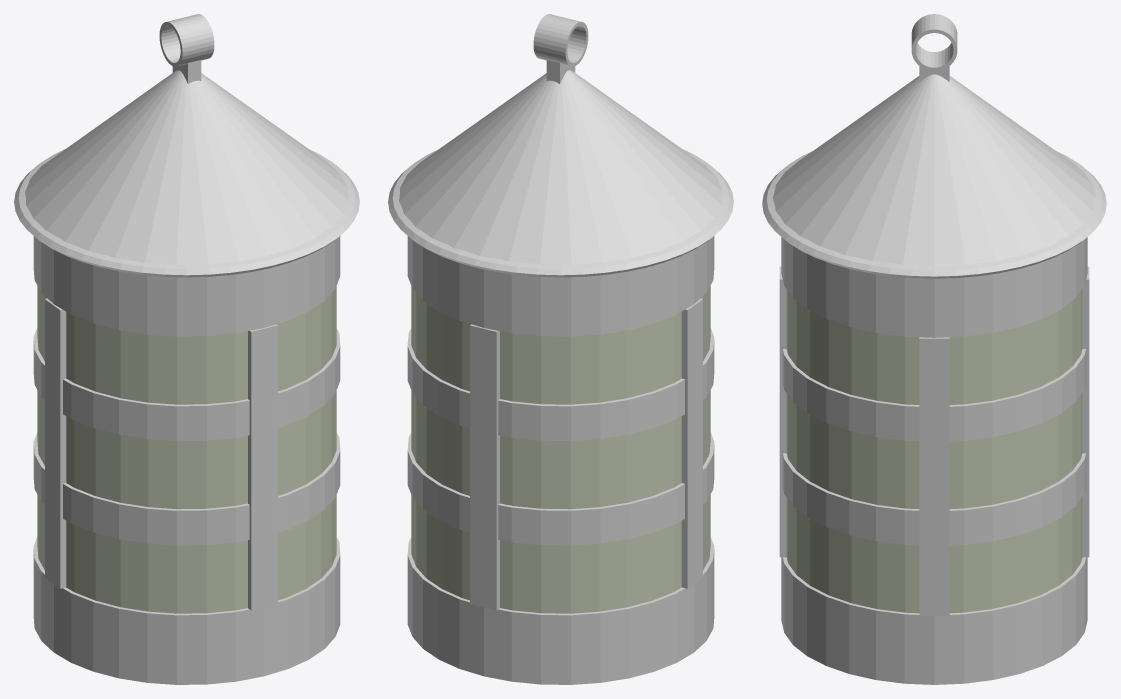
The model's file is lantern.fbx.
The picture shows the model from 3 angles, left to right: view 1: azimuth 30°, elevation 25°; view 2: azimuth 150°, elevation 25°; view 3: azimuth 270°, elevation 25°; orthographic projection.
Visible parts, largest first — view 1: Cylinder, Cylinder.001, Cone, Cube.002, Torus.001, Cube, Cylinder.003; view 2: Cylinder, Cylinder.001, Cone, Cube.003, Torus.001, Cube, Cylinder.003; view 3: Cylinder, Cylinder.001, Cone, Cube.001, Torus.001, Cube.002, Cube.003, Cylinder.003.
Boxes of the visible parts, x1=… form: Cylinder: x1=33, y1=236, x2=340, y2=684; Cylinder.001: x1=37, y1=286, x2=336, y2=613; Cone: x1=25, y1=70, x2=348, y2=264; Cube.002: x1=248, y1=324, x2=277, y2=610; Torus.001: x1=14, y1=149, x2=359, y2=277; Cube: x1=45, y1=298, x2=66, y2=588; Cylinder.003: x1=159, y1=14, x2=214, y2=66; Cylinder: x1=407, y1=236, x2=714, y2=684; Cylinder.001: x1=411, y1=286, x2=710, y2=613; Cone: x1=399, y1=70, x2=722, y2=264; Cube.003: x1=470, y1=324, x2=499, y2=610; Torus.001: x1=388, y1=149, x2=733, y2=277; Cube: x1=681, y1=298, x2=702, y2=588; Cylinder.003: x1=533, y1=14, x2=588, y2=66; Cylinder: x1=781, y1=237, x2=1087, y2=684; Cylinder.001: x1=786, y1=289, x2=1082, y2=613; Cone: x1=773, y1=74, x2=1095, y2=266; Cube.001: x1=919, y1=337, x2=949, y2=616; Torus.001: x1=762, y1=151, x2=1106, y2=278; Cube.002: x1=779, y1=266, x2=786, y2=557; Cube.003: x1=1082, y1=266, x2=1089, y2=557; Cylinder.003: x1=911, y1=14, x2=957, y2=70.
Bounding box in the file's own units: 225 × 431 × 225.
